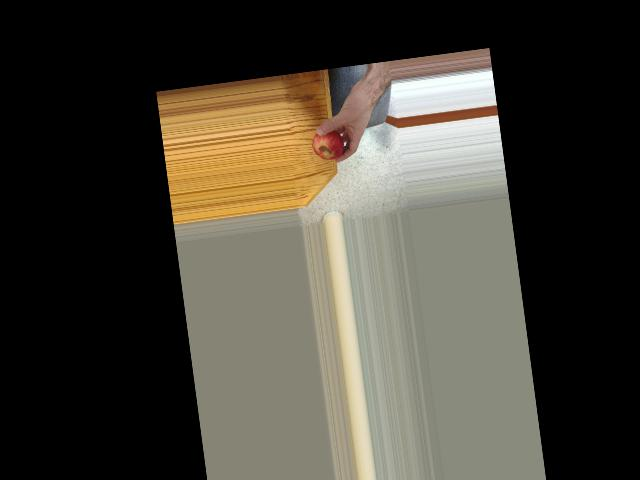apple: (309, 124, 345, 162)
